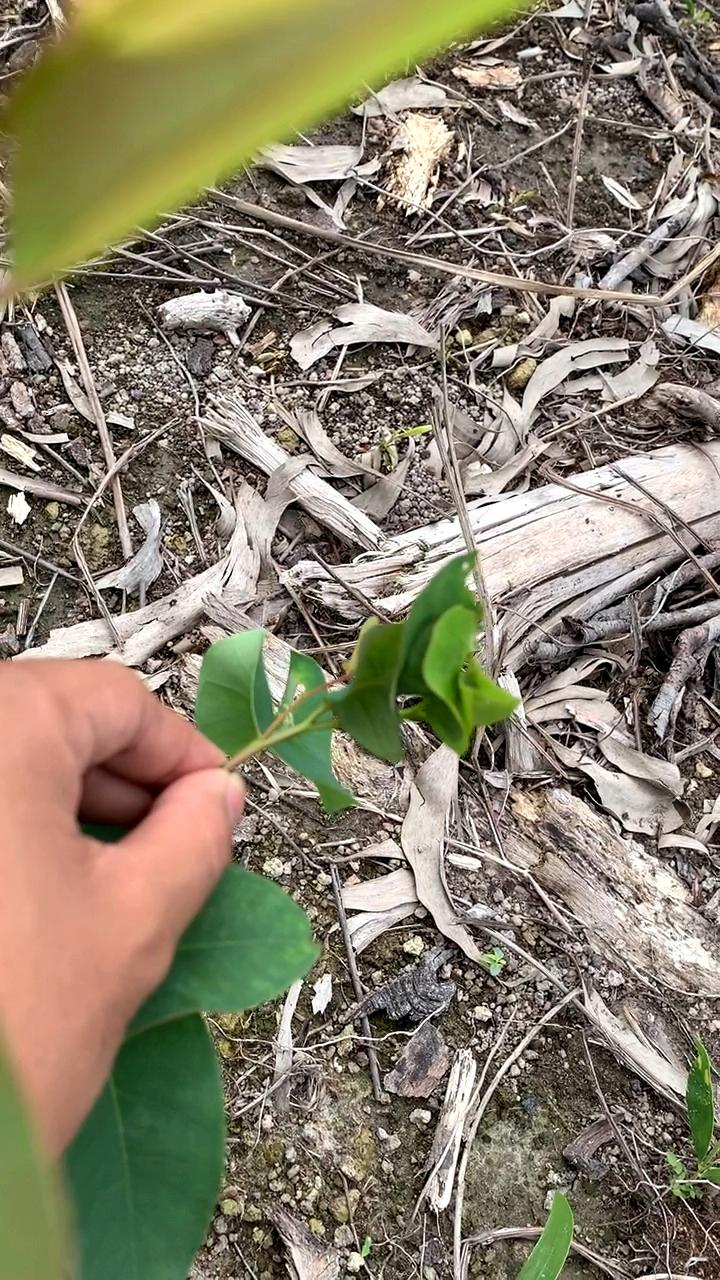Leaf Roller - Leaf: (328, 550, 543, 771)
